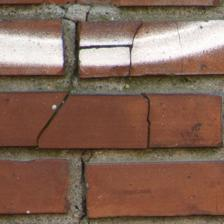Crack: (7, 37, 89, 113), (9, 41, 71, 114), (0, 114, 51, 174)
